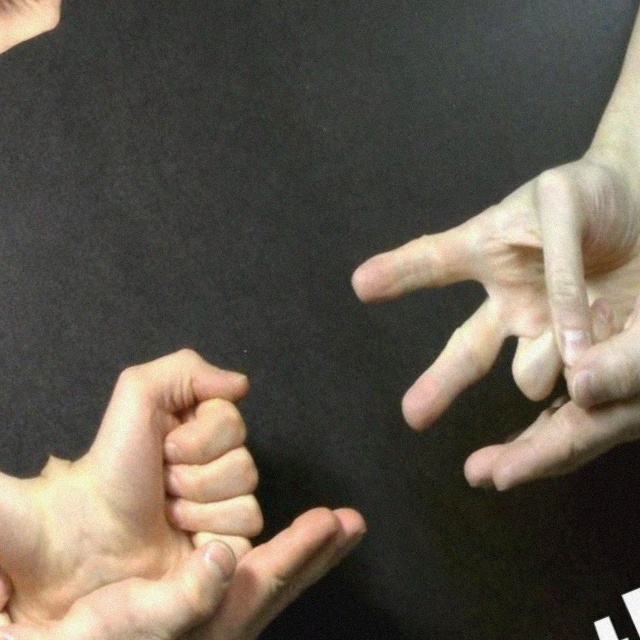Rock: (0, 408, 106, 640)
Scissors: (0, 0, 101, 92)
